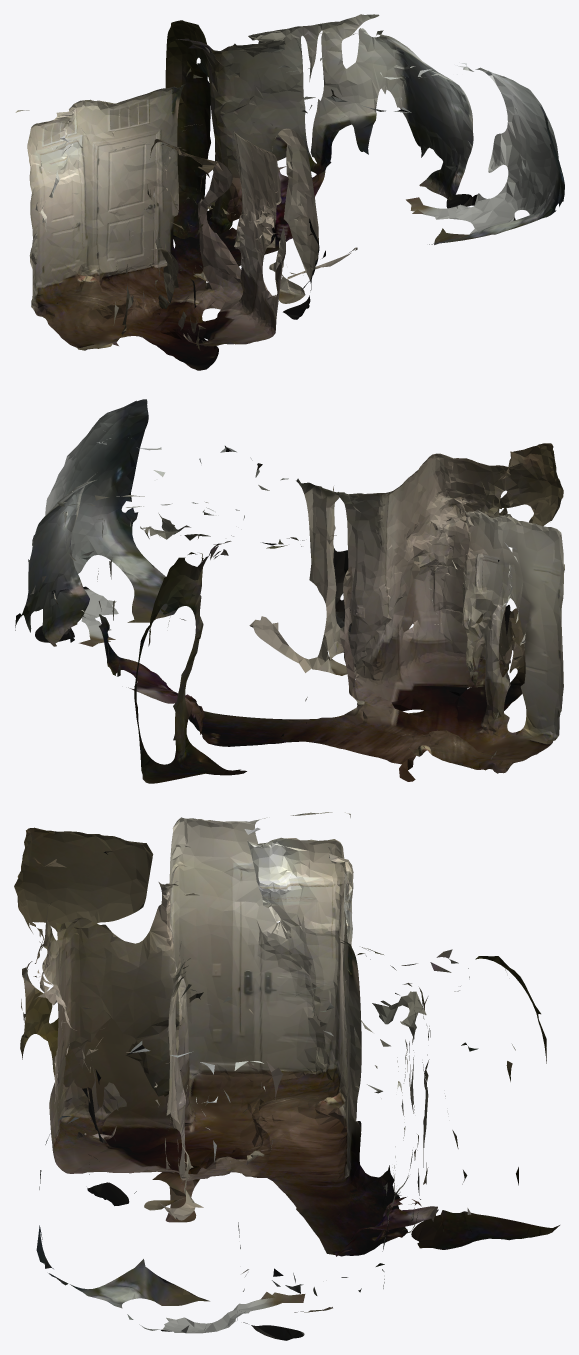
Rendered from Room2.glb.
3 views of the same model, one above another, from view 1: azimuth 30°, elevation 25°; view 2: azimuth 150°, elevation 25°; view 3: azimuth 270°, elevation 25° (orthographic). The views are drawn at different scales.
Visible parts, largest first — view 1: Mesh_0; view 2: Mesh_0; view 3: Mesh_0.
Part boxes in pixels (<box>): Mesh_0: <box>15,14,564,370</box>; Mesh_0: <box>15,399,564,783</box>; Mesh_0: <box>14,812,559,1340</box>.
Bounding box in the file's own units: 7.65 × 3.79 × 5.71.
Materials: 1 (1 with a texture image).
